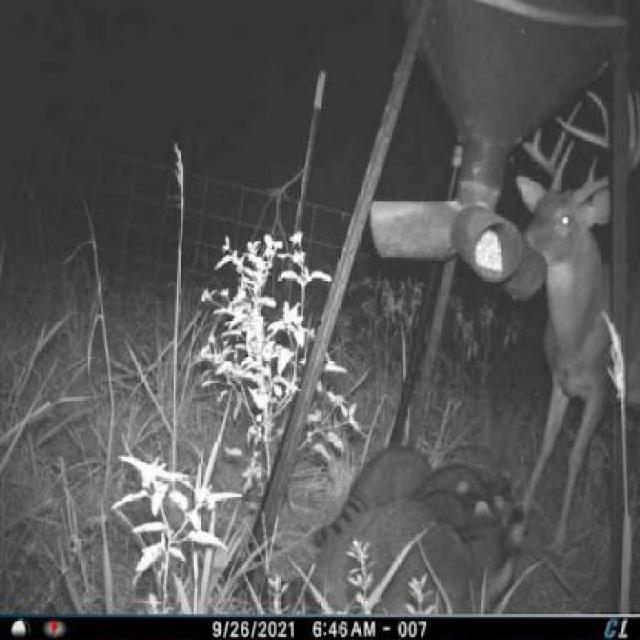Deer: (521, 68, 639, 569)
